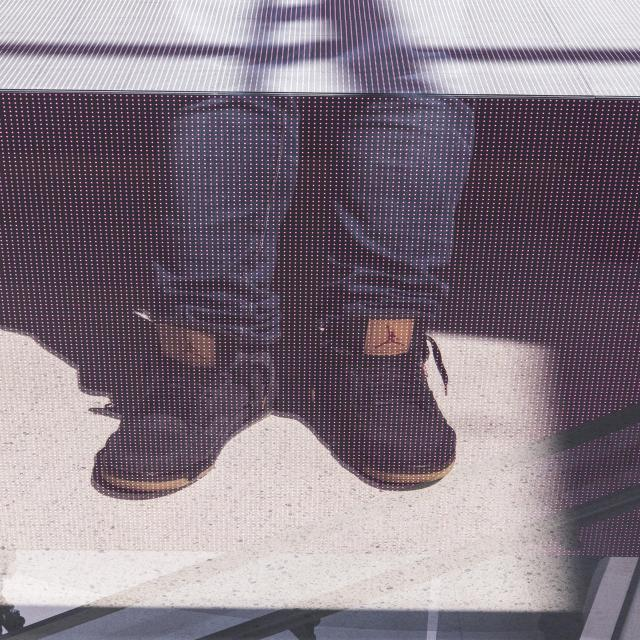shoes: (91, 313, 271, 495), (306, 309, 460, 488)
